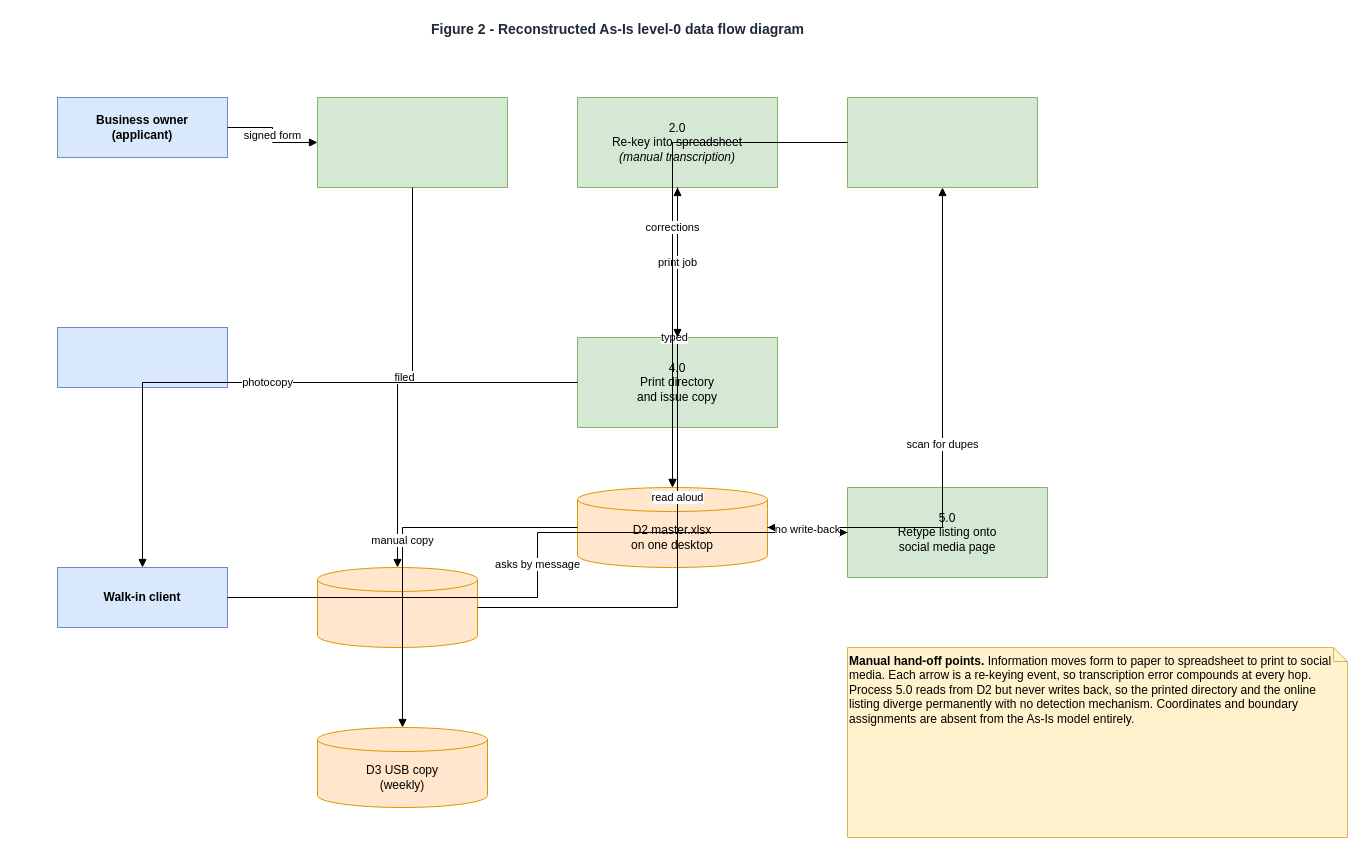
Some shapes in this 1365 by 855 pixel diagram are drawn without their labels. Here are the shapes that lost their labels. From the top down, the centre of each, then its label:
At (412,142): "1.0 Capture registration (handwritten form)".
At (942,142): "3.0 Resolve duplicate and spelling variants".
At (142,357): "Association officer".
At (397,607): "D1 Paper register".
